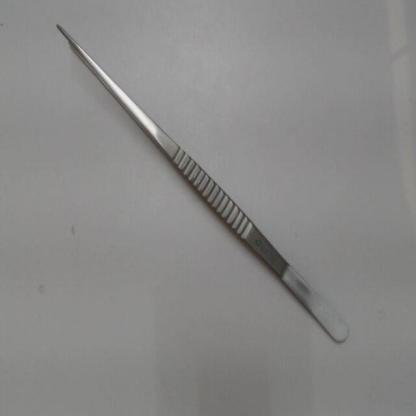DeBakey Dissector: (35, 12, 375, 374)
